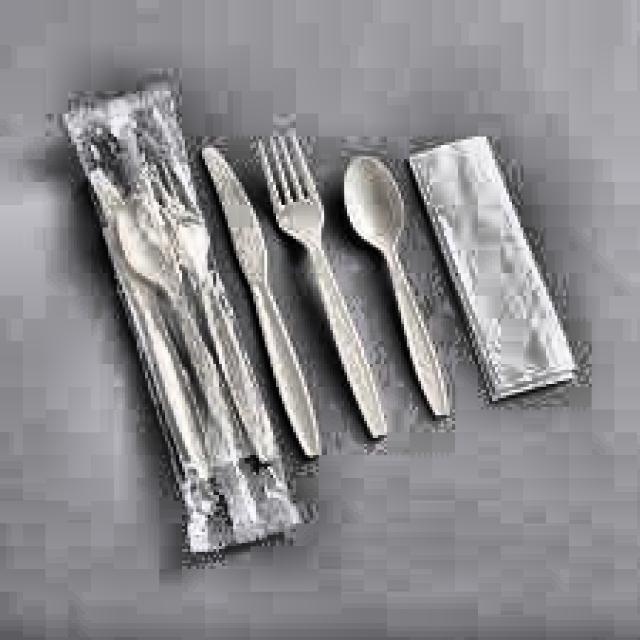plastic utensil: (261, 139, 382, 438), (202, 151, 316, 458), (345, 158, 444, 416)
